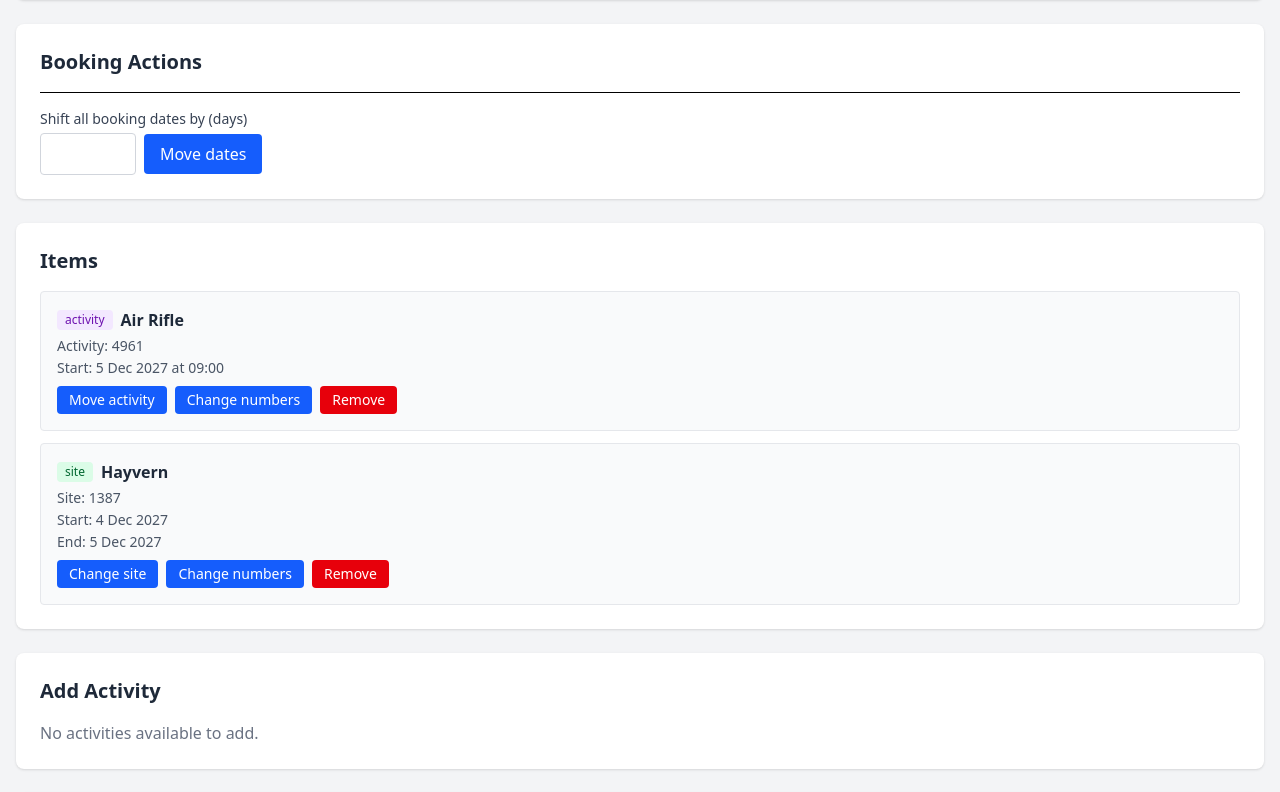
Scenario: move-activity action › submits new times for an activity item after confirmation
(page scrolled)
Click the button "Move activity". click: (112, 400)
box: [57,386,167,414]
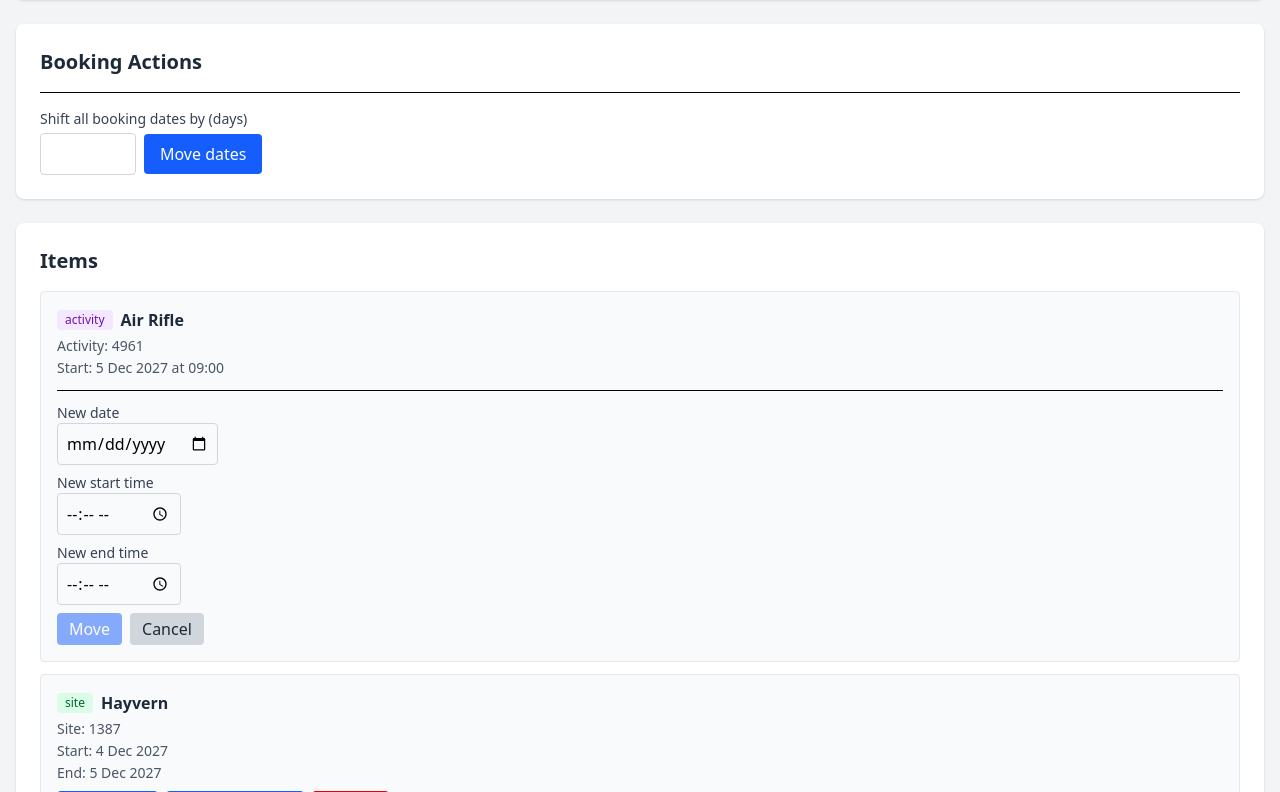
Type "14:00" into the time field labelled "New start time". click: (119, 514)
box: [57,493,181,535]
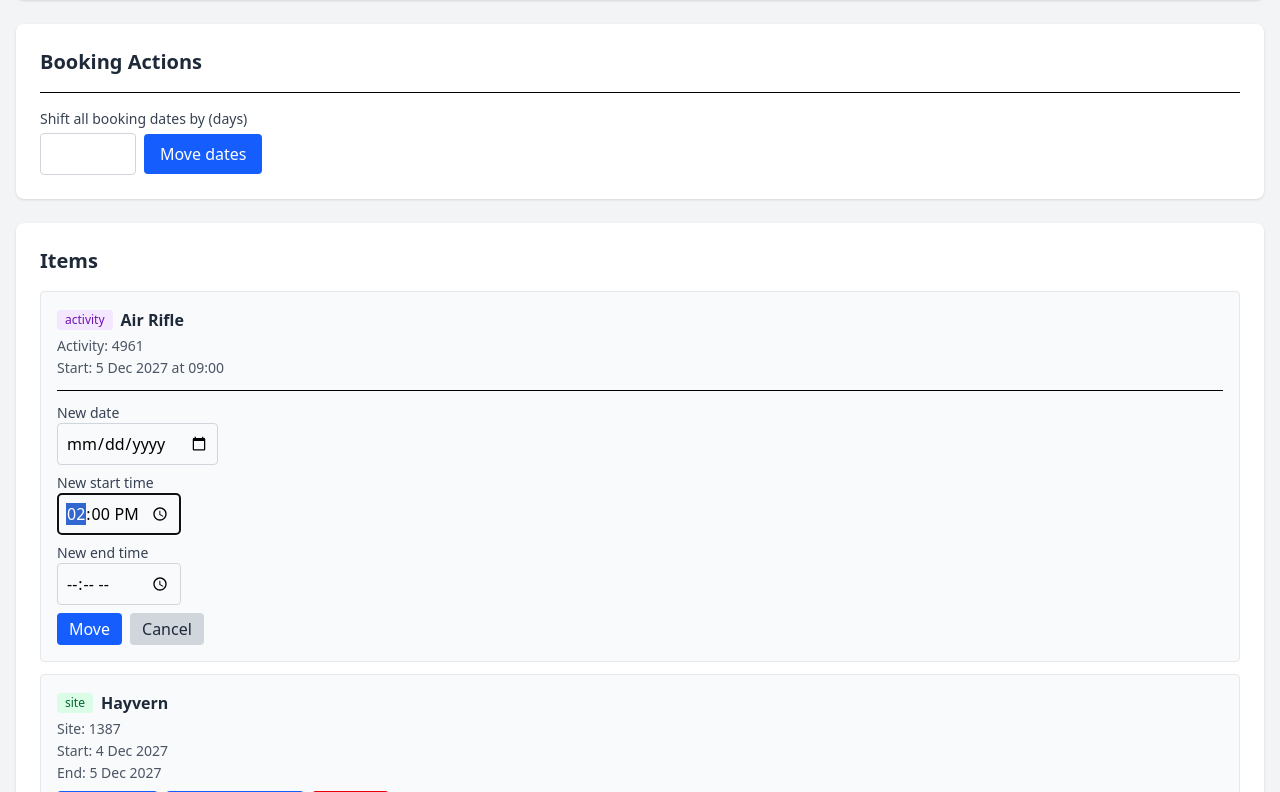
Type "15:00" into the time field labelled "New end time". click: (119, 584)
box: [57,563,181,605]
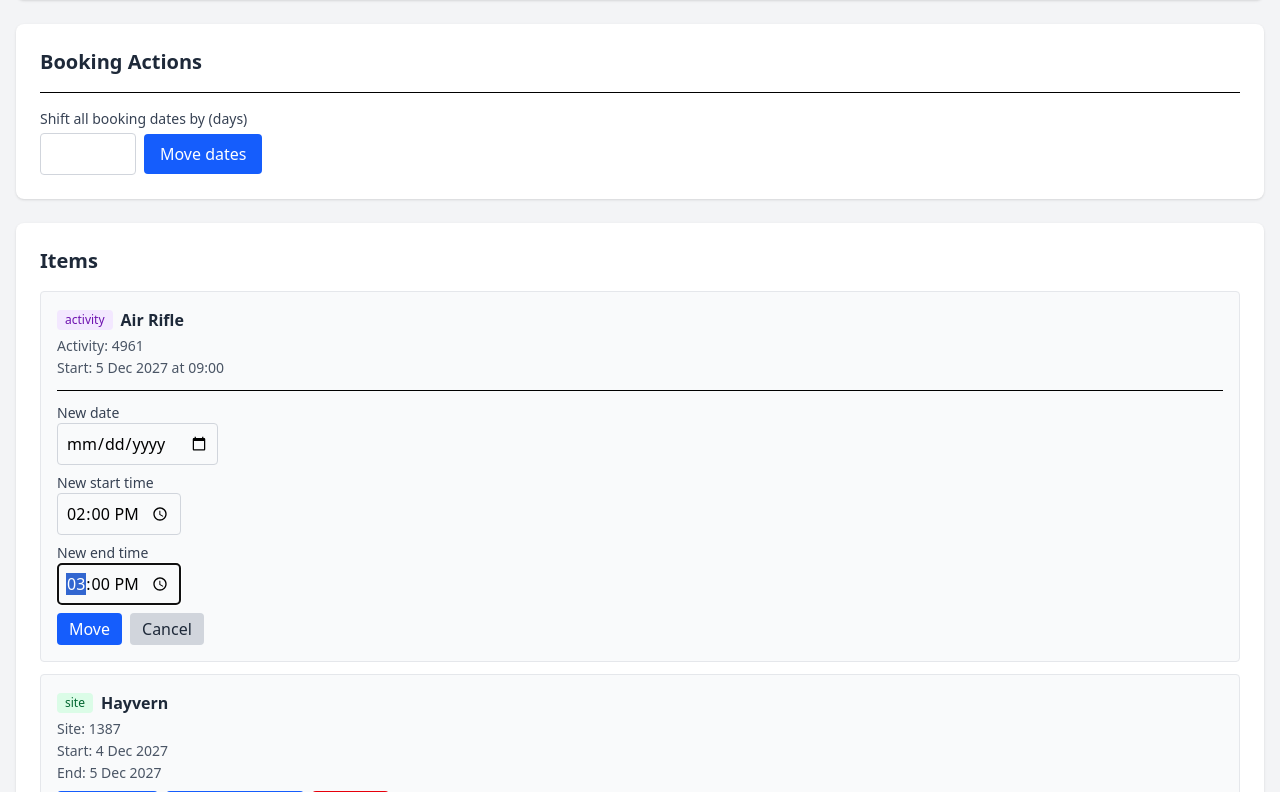
Click the button "Move". click: (90, 629)
box: [57,613,122,645]
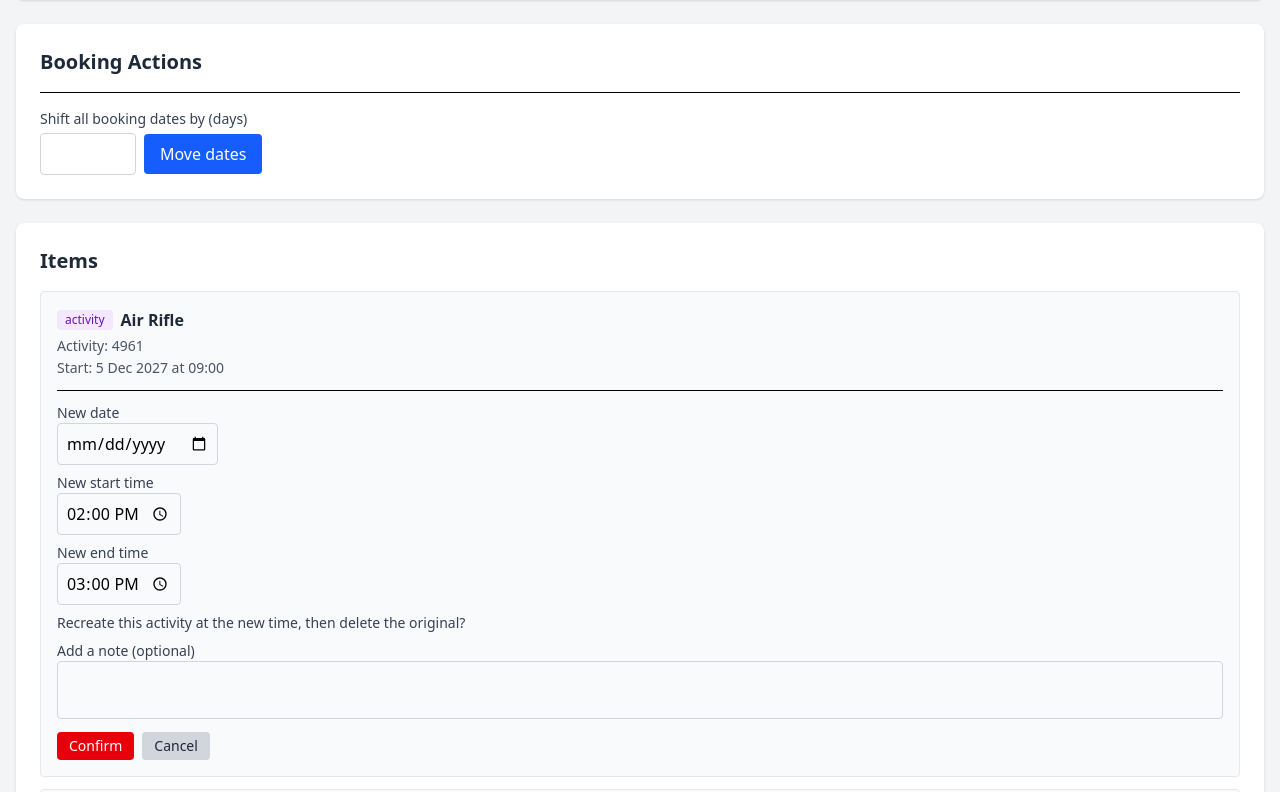
Click the button "Confirm". click: (96, 746)
box: [57,732,134,760]
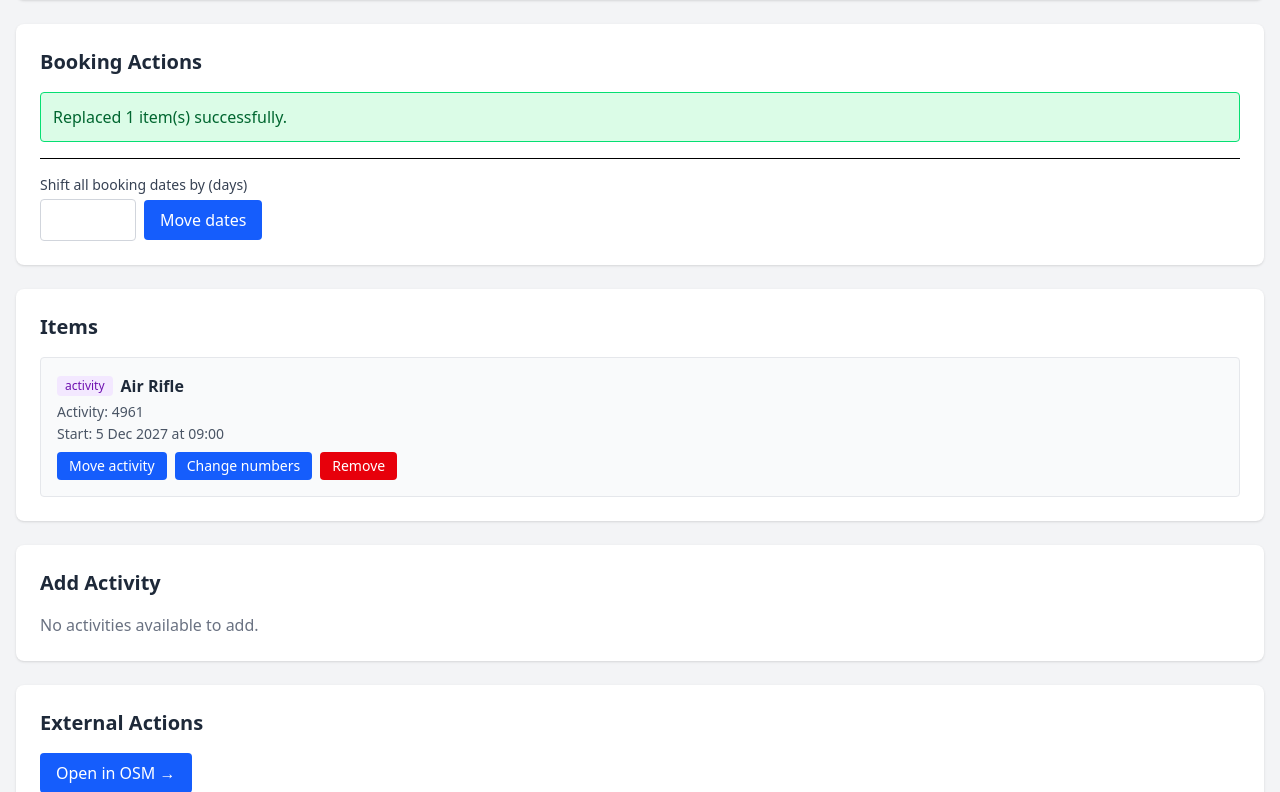
expect the message shows "Replaced 1 item": met, box [53,106,287,128]
